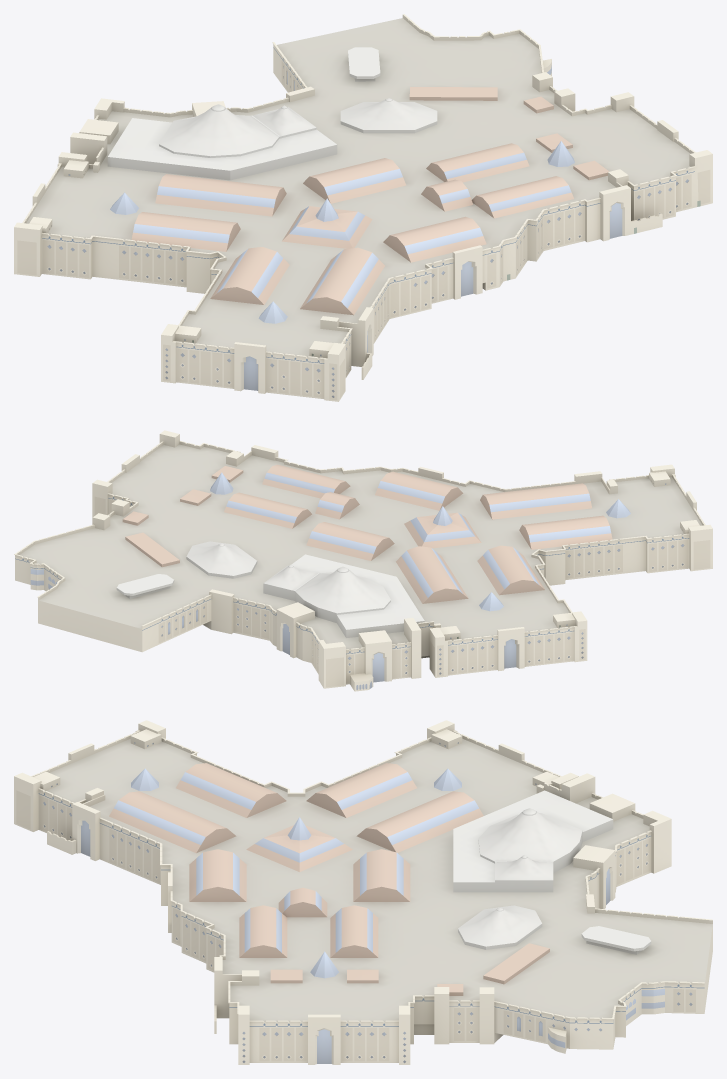
Rendered from KSA-29.glb.
3 views of the same model, one above another, from view 1: azimuth 30°, elevation 25°; view 2: azimuth 150°, elevation 25°; view 3: azimuth 270°, elevation 25° (orthographic). The views are drawn at different scales.
Visible parts, largest first — view 1: alrashidmall; view 2: alrashidmall; view 3: alrashidmall.
Boxes of the visible parts, x1=… form: alrashidmall: x1=14, y1=14, x2=712, y2=401; alrashidmall: x1=14, y1=430, x2=712, y2=691; alrashidmall: x1=14, y1=720, x2=712, y2=1064.
Bounding box in the file's own units: 275 × 35.3 × 273.
Materials: 1 (1 with a texture image).
